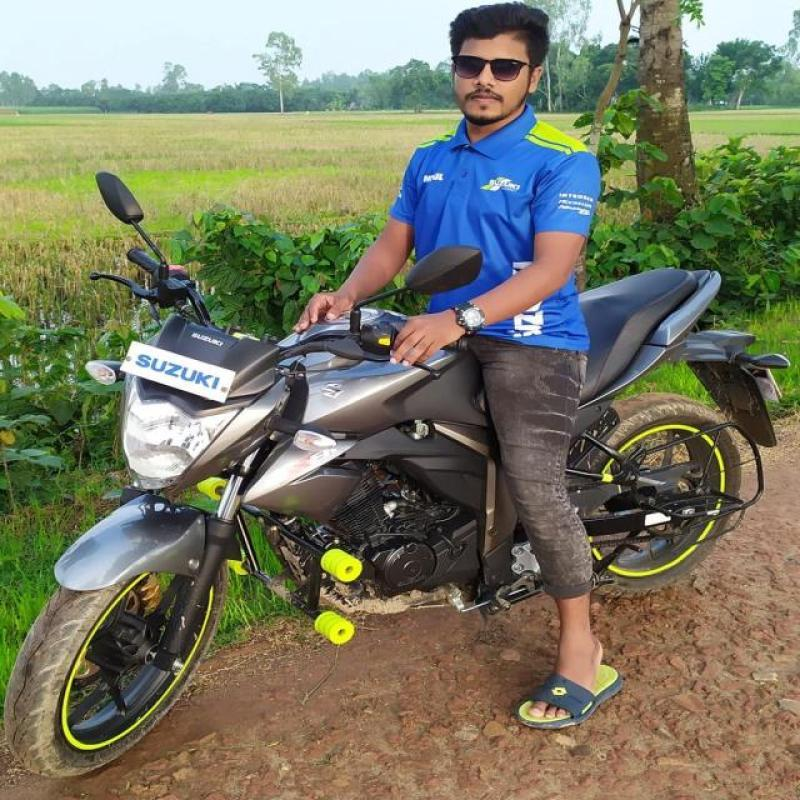nohelmet: (438, 7, 556, 125)
